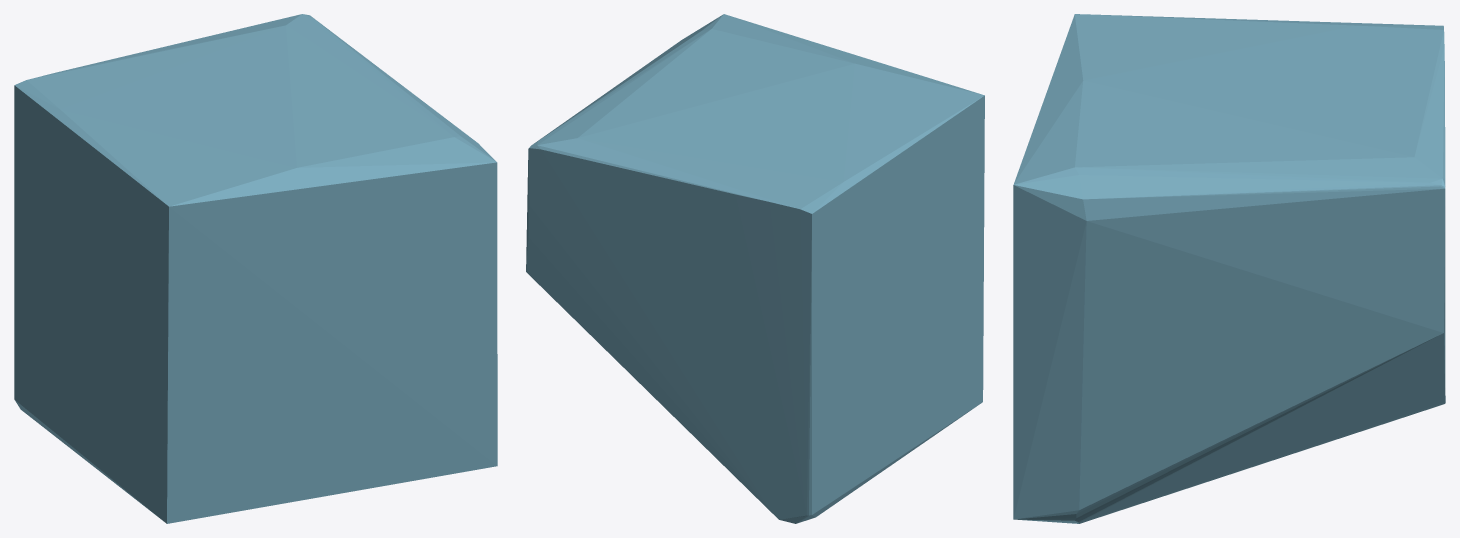
Rendered from screen_hospital_b04.glb.
3 views of the same model, side by side, from view 1: azimuth 30°, elevation 25°; view 2: azimuth 150°, elevation 25°; view 3: azimuth 270°, elevation 25° (orthographic). The views are drawn at different scales.
Parts seen in each view (by area): view 1: geometry_0; view 2: geometry_0; view 3: geometry_0.
Boxes of the visible parts, x1,y1,x2,y2 form: geometry_0: (14,14,497,523); geometry_0: (526,14,984,523); geometry_0: (1013,14,1445,523).
Bounding box in the file's own units: 0.4485 × 0.4561 × 0.4797.
